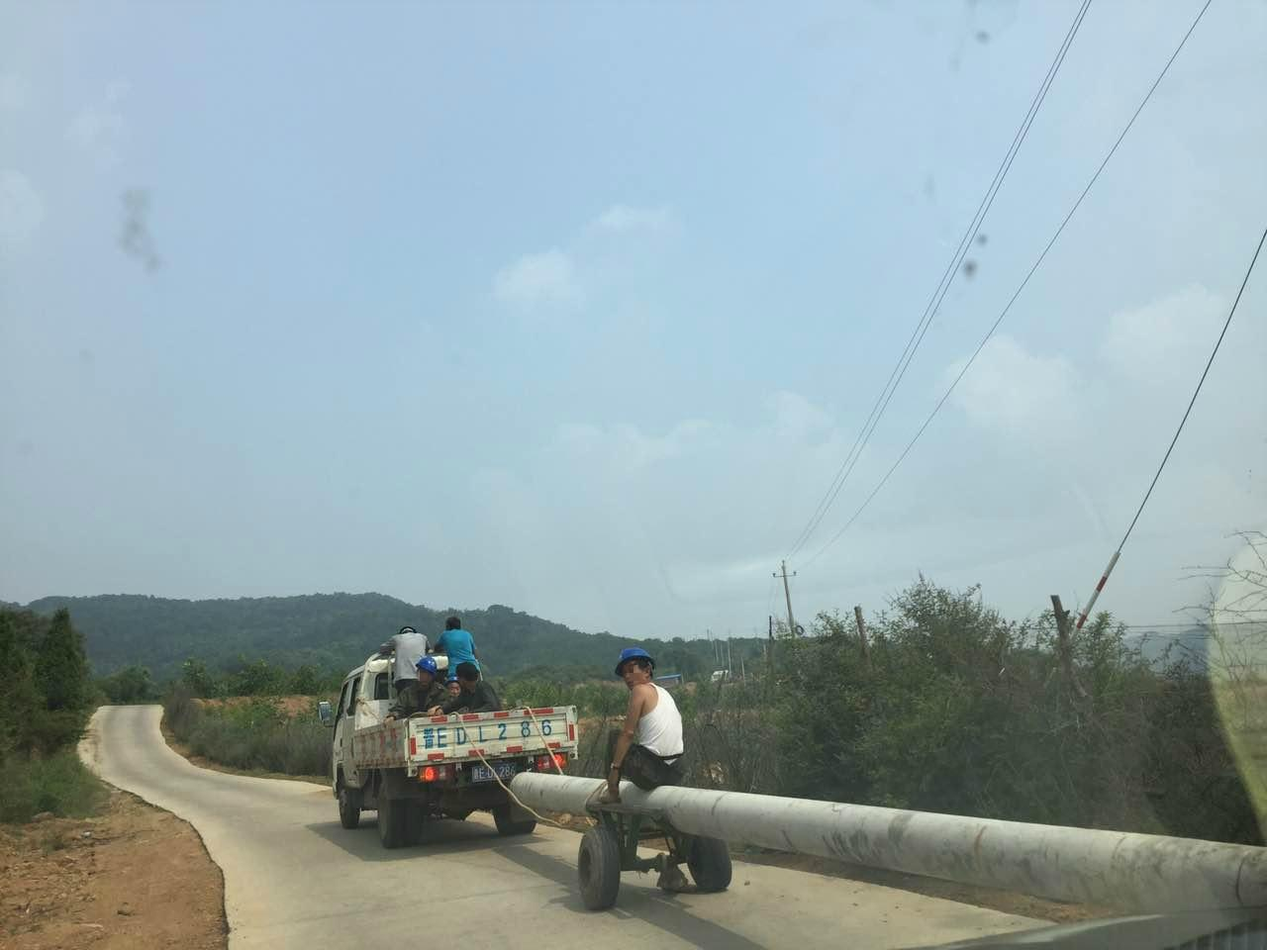Helmet: (613, 645, 655, 679)
